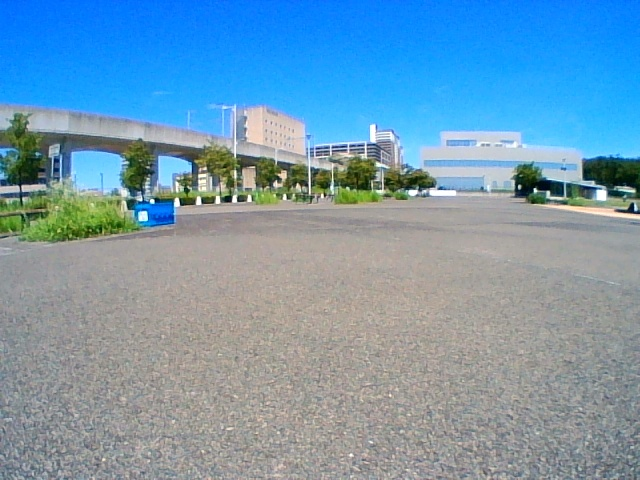blue_box: (135, 204, 173, 225)
tag: (138, 210, 147, 221)
